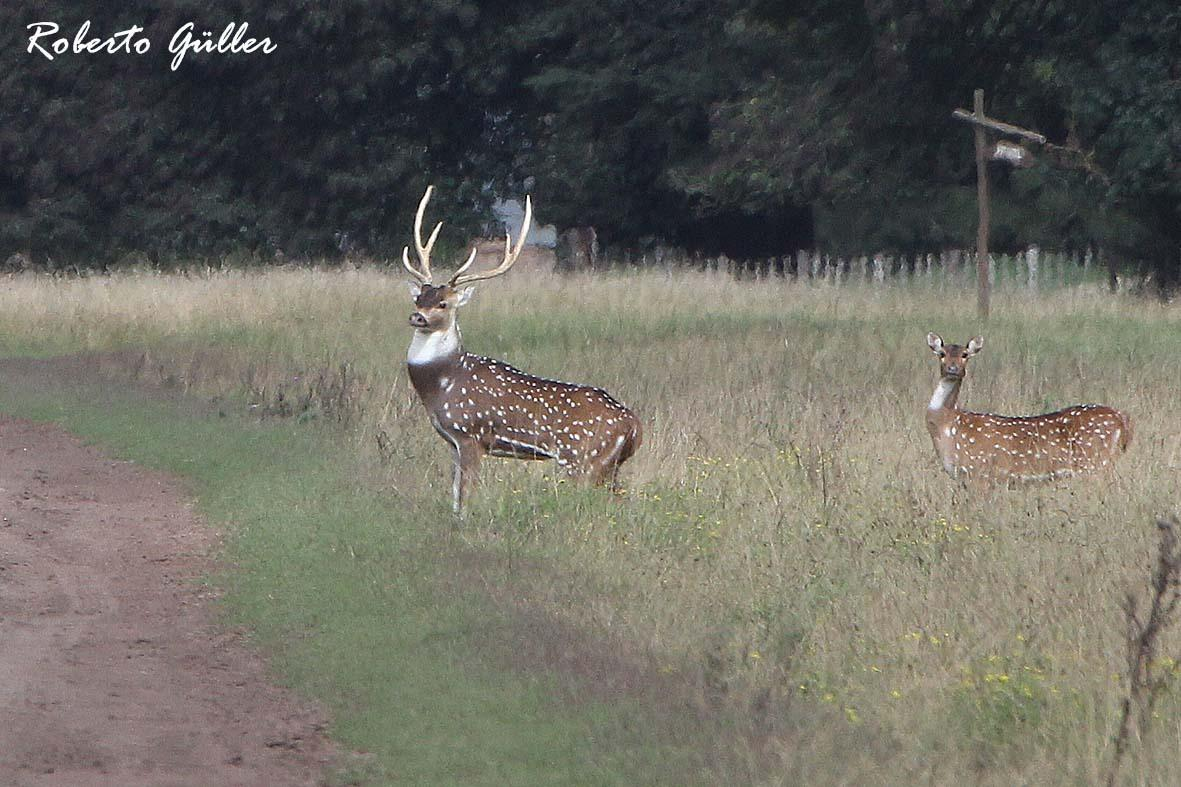Deer: (402, 185, 641, 512), (925, 333, 1132, 483)
